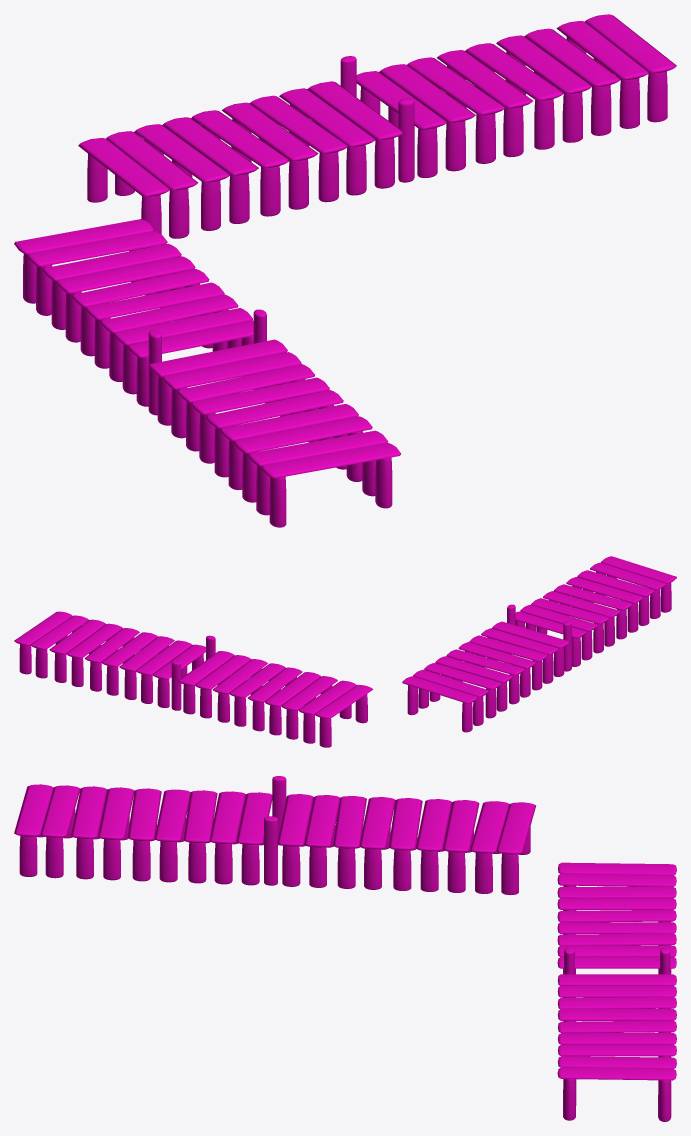
Rendered from SwampDocks.fbx.
3 renders of one model, top to bottom at view 1: azimuth 30°, elevation 25°; view 2: azimuth 150°, elevation 25°; view 3: azimuth 270°, elevation 25°, orthographic. The views are drawn at different scales.
Visible parts, largest first — view 1: Dock; view 2: Dock; view 3: Dock.
Part boxes in pixels (left/top/right/bottom): Dock: left=14, top=14, right=676, bottom=527; Dock: left=14, top=556, right=676, bottom=747; Dock: left=14, top=776, right=676, bottom=1121.
Size of the model in its own units: 23.27 by 2.44 by 22.11.
